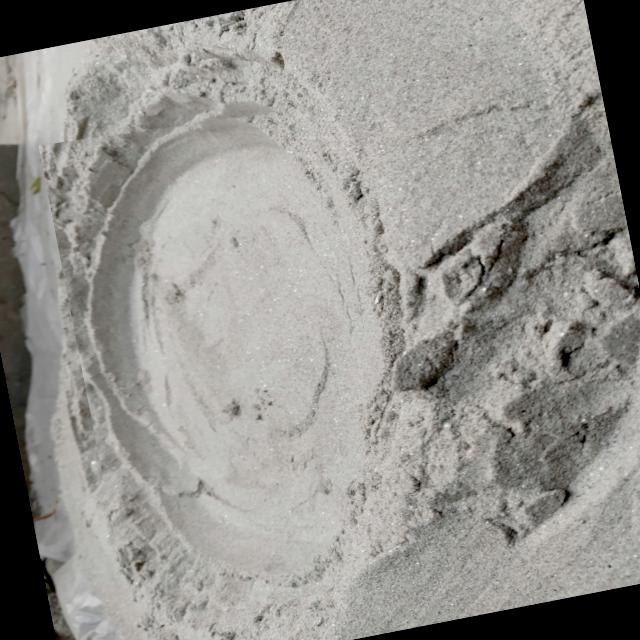C40: (76, 116, 376, 608)
